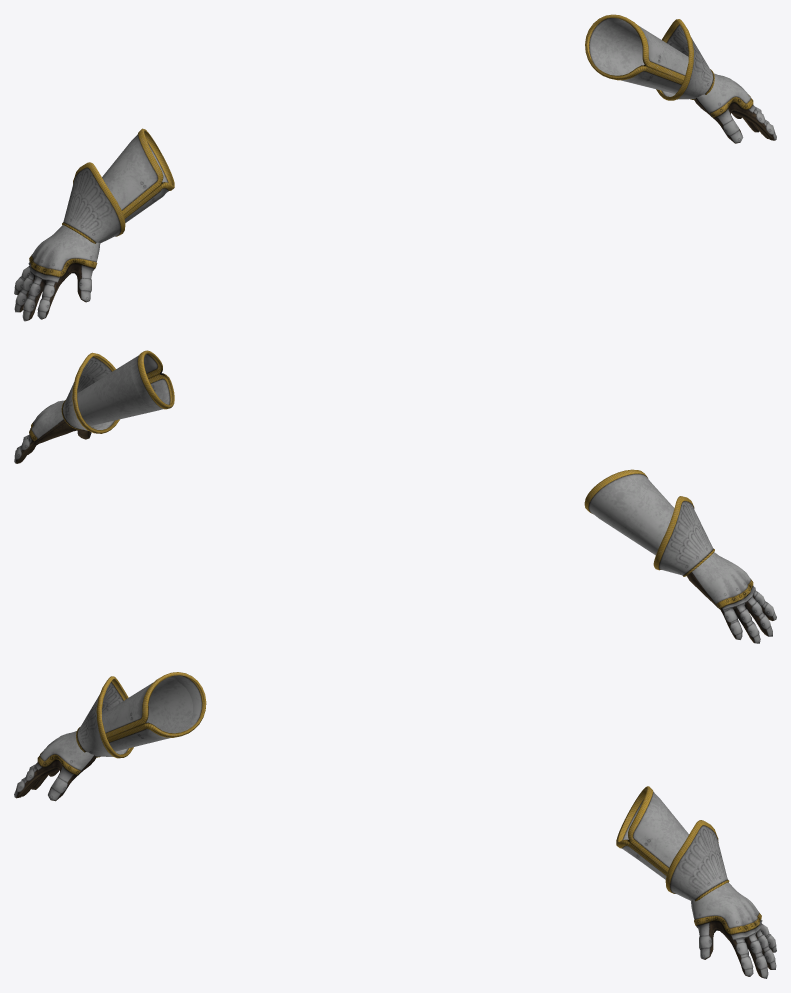
The model's file is swan_knight_gloves.fbx.
3 renders of one model, top to bottom at view 1: azimuth 30°, elevation 25°; view 2: azimuth 150°, elevation 25°; view 3: azimuth 330°, elevation 25°, orthographic.
Visible parts, largest first — view 1: swan_knight_gloves; view 2: swan_knight_gloves; view 3: swan_knight_gloves.
Boxes of the visible parts, box(x1,y1,x2,y2) form: swan_knight_gloves: box(14, 14, 776, 321); swan_knight_gloves: box(14, 350, 776, 643); swan_knight_gloves: box(14, 672, 776, 978).
Size of the model in its own units: 1.6 by 0.1726 by 0.2932.
Materials: 1 (1 with a texture image).
